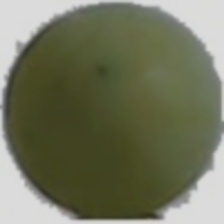grapes: (5, 4, 185, 196)
